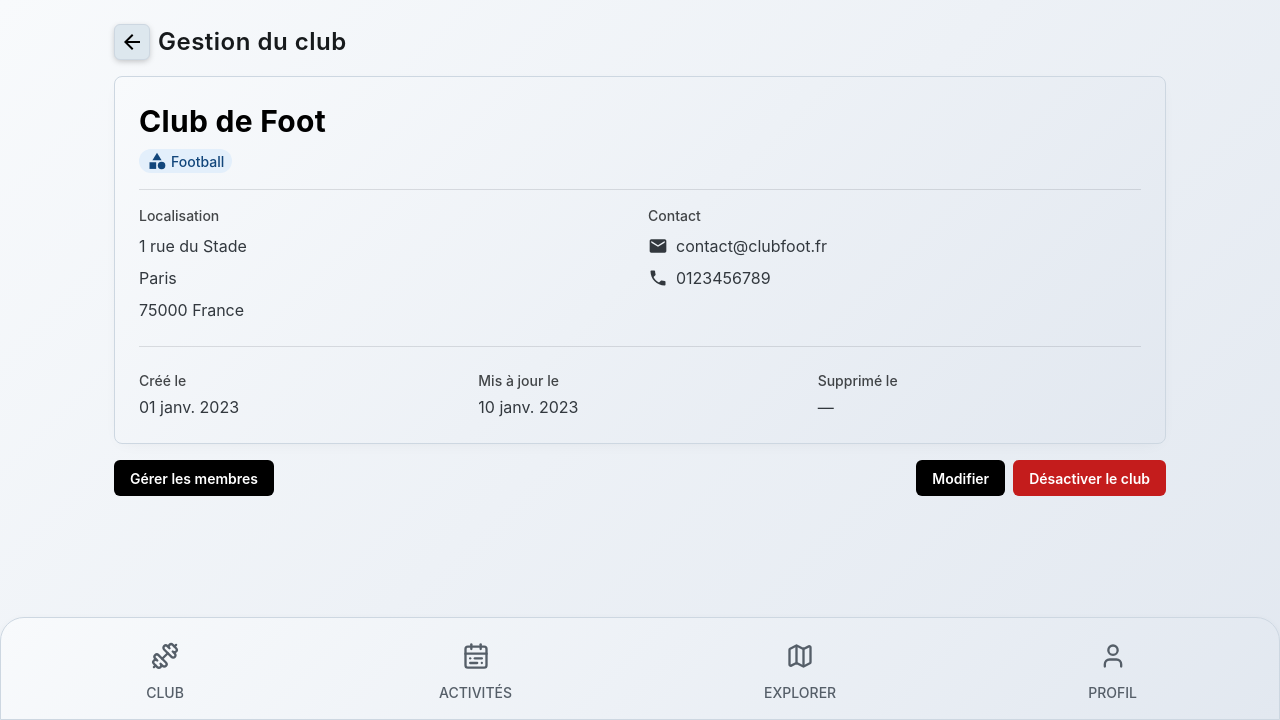
Scenario: ManageClub › désactive l'enregistrement tant que l'adresse n'est pas validée
Click the button "Modifier" at {"x": 961, "y": 478}, box [916,460,1005,496]
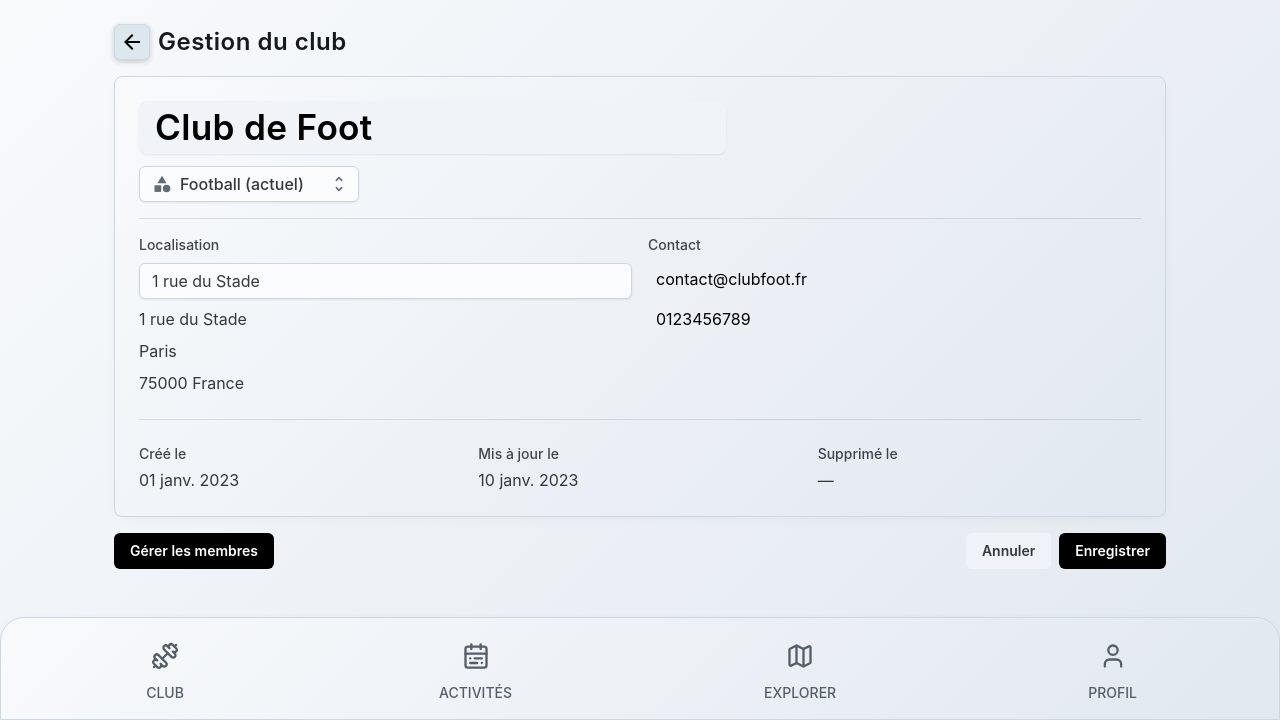
Replace the text in the field with placeholder "Rechercher une adresse..." below "Localisation" with "Nouvelle adresse" at {"x": 386, "y": 281}, box [152,264,619,298]
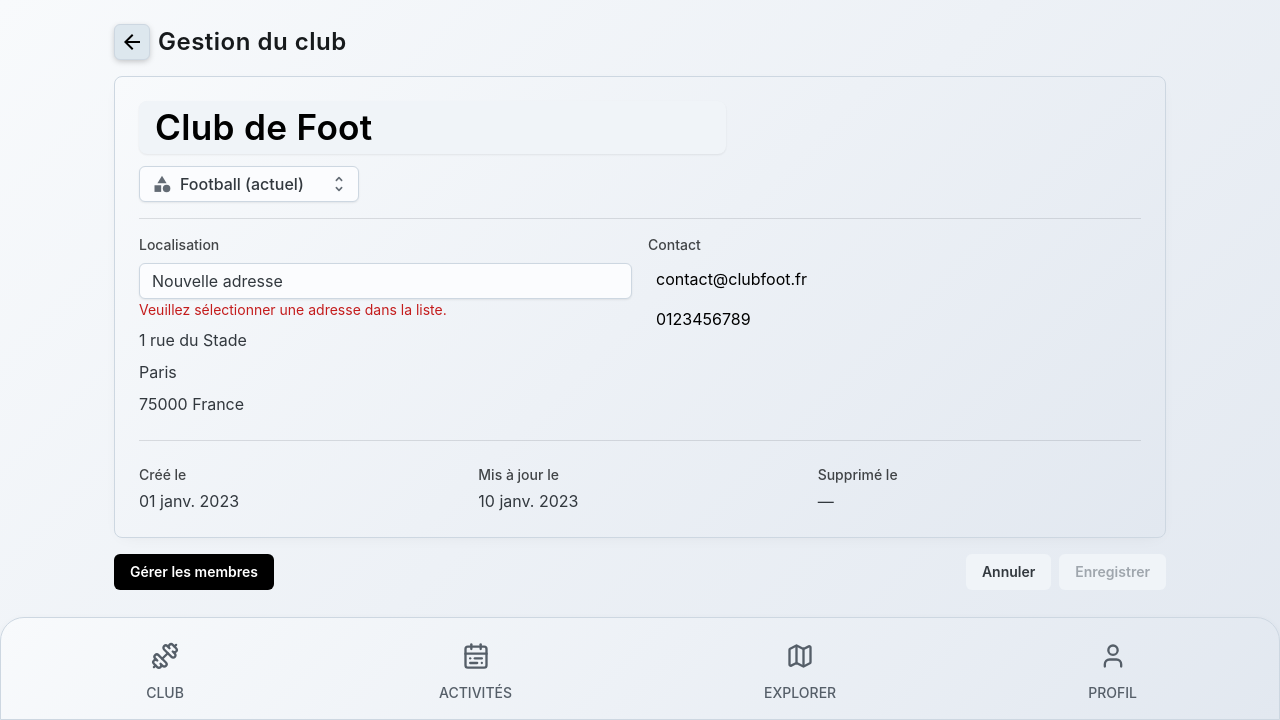
Now the button "Enregistrer" is disabled, box [1059,554,1166,590]
